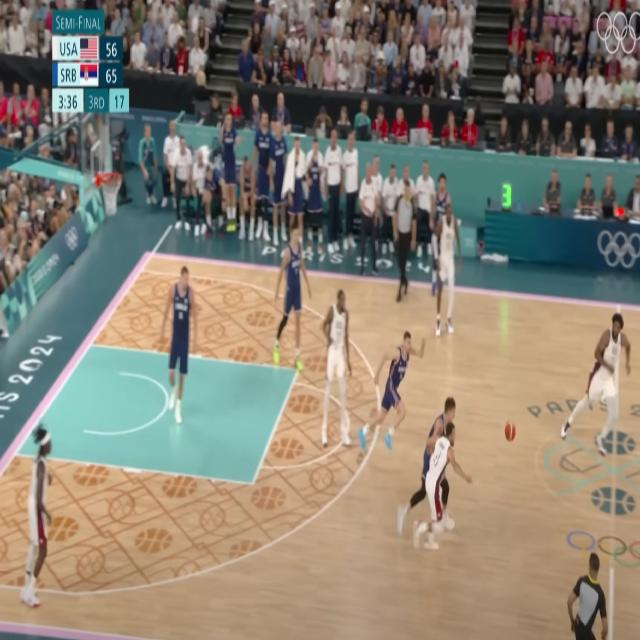basketball: (504, 422, 516, 441)
hoop: (101, 174, 121, 214)
